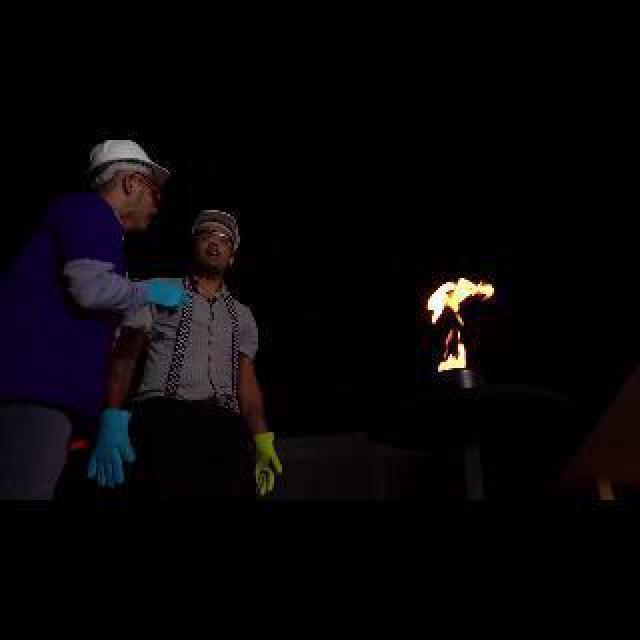Fire: (402, 274, 490, 368)
